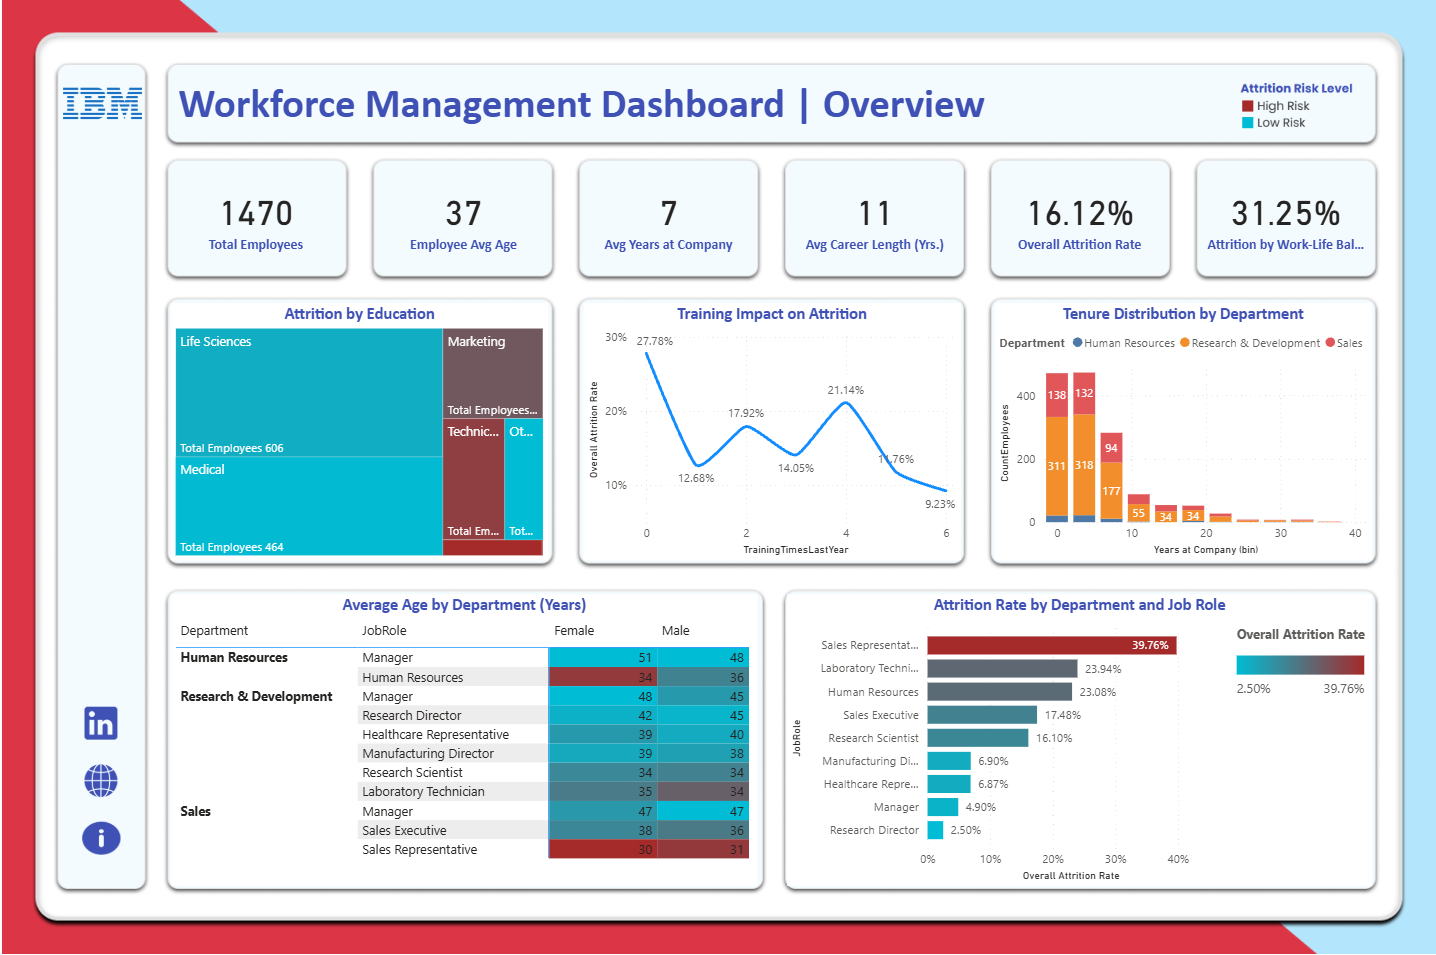

The dashboard page shown, as its layout file describes it:
{"tool":"powerbi","page":{"name":"Overview","canvas":[1500,1000],"ordinal":0},"visuals":[{"type":"card","fields":{"Values":["Sum(WA_Fn-UseC_-HR-Employee-Attrition.EmployeeCount)"]},"box":[178,172,178,115],"z":0},{"type":"card","fields":{"Values":["Avg(WA_Fn-UseC_-HR-Employee-Attrition.Age)"]},"box":[394,172,178,115],"z":1000},{"type":"card","fields":{"Values":["Avg(WA_Fn-UseC_-HR-Employee-Attrition.YearsAtCompany)"]},"box":[609,172,178,115],"z":2000},{"type":"card","fields":{"Values":["Avg(WA_Fn-UseC_-HR-Employee-Attrition.TotalWorkingYears)"]},"box":[824,172,178,115],"z":3000},{"type":"card","fields":{"Values":["WA_Fn-UseC_-HR-Employee-Attrition.Overall Attrition Rate"]},"box":[1038,172,178,115],"z":4000},{"type":"card","fields":{"Values":["WA_Fn-UseC_-HR-Employee-Attrition.Attrition Rate by Work-Life Balance"]},"box":[1254,172,178,115],"z":5000},{"type":"treemap","title":"Attrition by Education","fields":{"Values":["Sum(WA_Fn-UseC_-HR-Employee-Attrition.EmployeeCount)","WA_Fn-UseC_-HR-Employee-Attrition.Overall Attrition Rate"],"Group":["WA_Fn-UseC_-HR-Employee-Attrition.EducationField"]},"box":[178,319,394,269],"z":6000},{"type":"lineChart","title":"Training Impact on Attrition","fields":{"Y":["WA_Fn-UseC_-HR-Employee-Attrition.Overall Attrition Rate"],"Category":["WA_Fn-UseC_-HR-Employee-Attrition.TrainingTimesLastYear"]},"box":[609,319,394,269],"z":7000},{"type":"barChart","title":"Attrition Rate by Department and Job Role","fields":{"Category":["WA_Fn-UseC_-HR-Employee-Attrition.Department","WA_Fn-UseC_-HR-Employee-Attrition.JobRole"],"Y":["WA_Fn-UseC_-HR-Employee-Attrition.Overall Attrition Rate"]},"box":[822,623,611,305],"z":8000},{"type":"pivotTable","title":"Average Age by Department (Years)","fields":{"Values":["Avg(WA_Fn-UseC_-HR-Employee-Attrition.Age)"],"Columns":["WA_Fn-UseC_-HR-Employee-Attrition.Gender"],"Rows":["WA_Fn-UseC_-HR-Employee-Attrition.Department","WA_Fn-UseC_-HR-Employee-Attrition.JobRole"]},"box":[178,623,613,305],"z":9000},{"type":"columnChart","title":"Tenure Distribution by Department","fields":{"Y":["WA_Fn-UseC_-HR-Employee-Attrition.CountEmployees"],"Series":["WA_Fn-UseC_-HR-Employee-Attrition.Department"],"Category":["WA_Fn-UseC_-HR-Employee-Attrition.YearsAtCompany_Bin"]},"box":[1038,319,394,269],"z":10000},{"type":"textbox","box":[180,78,875,65],"z":11000},{"type":"image","box":[60,71,92,79],"z":12000},{"type":"image","box":[75,730,60,55],"z":13000},{"type":"image","box":[75,790,60,55],"z":14000},{"type":"actionButton","box":[75,850,60,55],"z":15000},{"type":"image","box":[1280,78,145,64],"z":15001}]}

Visuals, with their boxes in screenshot pixels (x1, y1, x2, y2), scaled from the page's 1500x1000 canvas onto the 1436x955 screenshot:
card - Sum(WA_Fn-UseC_-HR-Employee-Attrition.EmployeeCount): (170, 164, 341, 274)
card - Avg(WA_Fn-UseC_-HR-Employee-Attrition.Age): (377, 164, 548, 274)
card - Avg(WA_Fn-UseC_-HR-Employee-Attrition.YearsAtCompany): (583, 164, 753, 274)
card - Avg(WA_Fn-UseC_-HR-Employee-Attrition.TotalWorkingYears): (789, 164, 959, 274)
card - WA_Fn-UseC_-HR-Employee-Attrition.Overall Attrition Rate: (994, 164, 1164, 274)
card - WA_Fn-UseC_-HR-Employee-Attrition.Attrition Rate by Work-Life Balance: (1200, 164, 1371, 274)
"Attrition by Education" treemap: (170, 305, 548, 562)
"Training Impact on Attrition" lineChart: (583, 305, 960, 562)
"Attrition Rate by Department and Job Role" barChart: (787, 595, 1372, 886)
"Average Age by Department (Years)" pivotTable: (170, 595, 757, 886)
"Tenure Distribution by Department" columnChart: (994, 305, 1371, 562)
textbox: (172, 74, 1010, 137)
image: (57, 68, 146, 143)
image: (72, 697, 129, 750)
image: (72, 754, 129, 807)
actionButton: (72, 812, 129, 864)
image: (1225, 74, 1364, 136)
